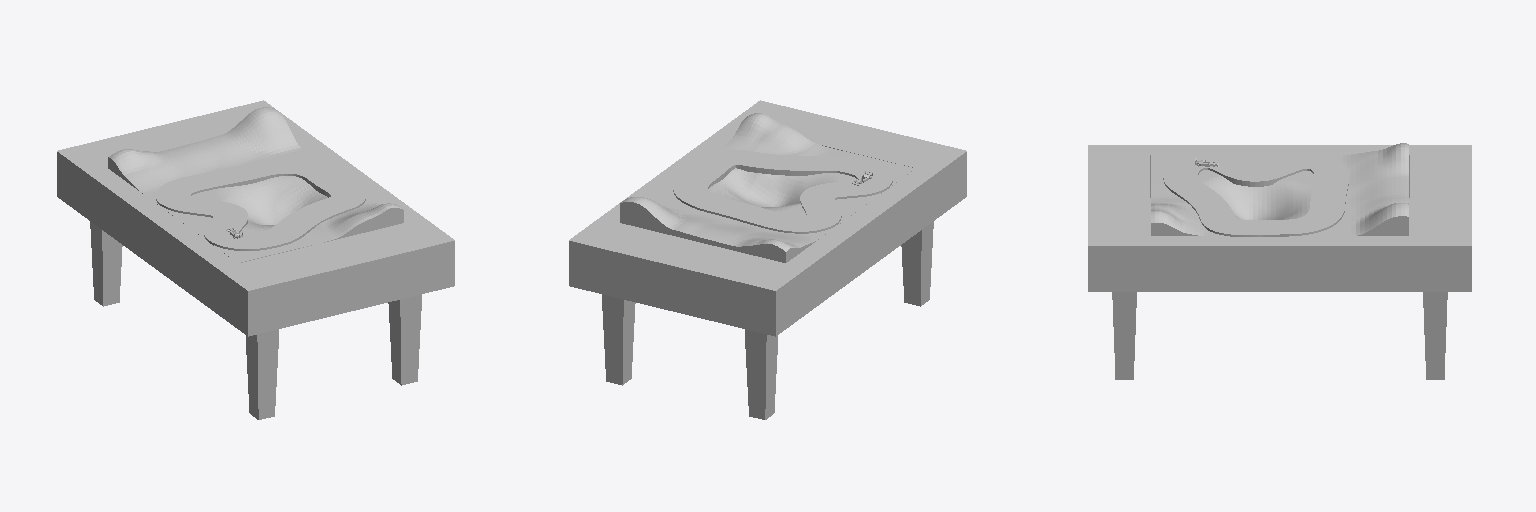
File: NewestTisch66.obj
3 views of the same model, side by side, from view 1: azimuth 30°, elevation 25°; view 2: azimuth 150°, elevation 25°; view 3: azimuth 270°, elevation 25° (orthographic).
Visible parts, largest first — view 1: Tischplatte_wood_table_001, Landschaft_aerial_grass_rock, off, Bein1_wood_table_001, Bein4_wood_table_001.003, Bein3_wood_table_001.002; view 2: Tischplatte_wood_table_001, Landschaft_aerial_grass_rock, off, Bein2_wood_table_001.001, Bein3_wood_table_001.002, Bein4_wood_table_001.003; view 3: Tischplatte_wood_table_001, Landschaft_aerial_grass_rock, off, Bein1_wood_table_001, Bein2_wood_table_001.001.
Boxes of the visible parts, box(x1,y1,x2,y2) form: Tischplatte_wood_table_001: box(57, 100, 454, 336); Landschaft_aerial_grass_rock: box(108, 107, 403, 262); off: box(156, 159, 365, 250); Bein1_wood_table_001: box(388, 294, 421, 385); Bein4_wood_table_001.003: box(246, 329, 278, 419); Bein3_wood_table_001.002: box(90, 221, 122, 306); Tischplatte_wood_table_001: box(569, 100, 966, 336); Landschaft_aerial_grass_rock: box(620, 113, 915, 262); off: box(673, 150, 892, 233); Bein2_wood_table_001.001: box(602, 294, 635, 385); Bein3_wood_table_001.002: box(745, 329, 777, 419); Bein4_wood_table_001.003: box(901, 221, 933, 306); Tischplatte_wood_table_001: box(1088, 145, 1471, 291); Landschaft_aerial_grass_rock: box(1151, 143, 1408, 235); off: box(1163, 153, 1348, 236); Bein1_wood_table_001: box(1112, 292, 1136, 379); Bein2_wood_table_001.001: box(1423, 292, 1447, 379).
Size of the model in its own units: 5 by 3.91 by 8.